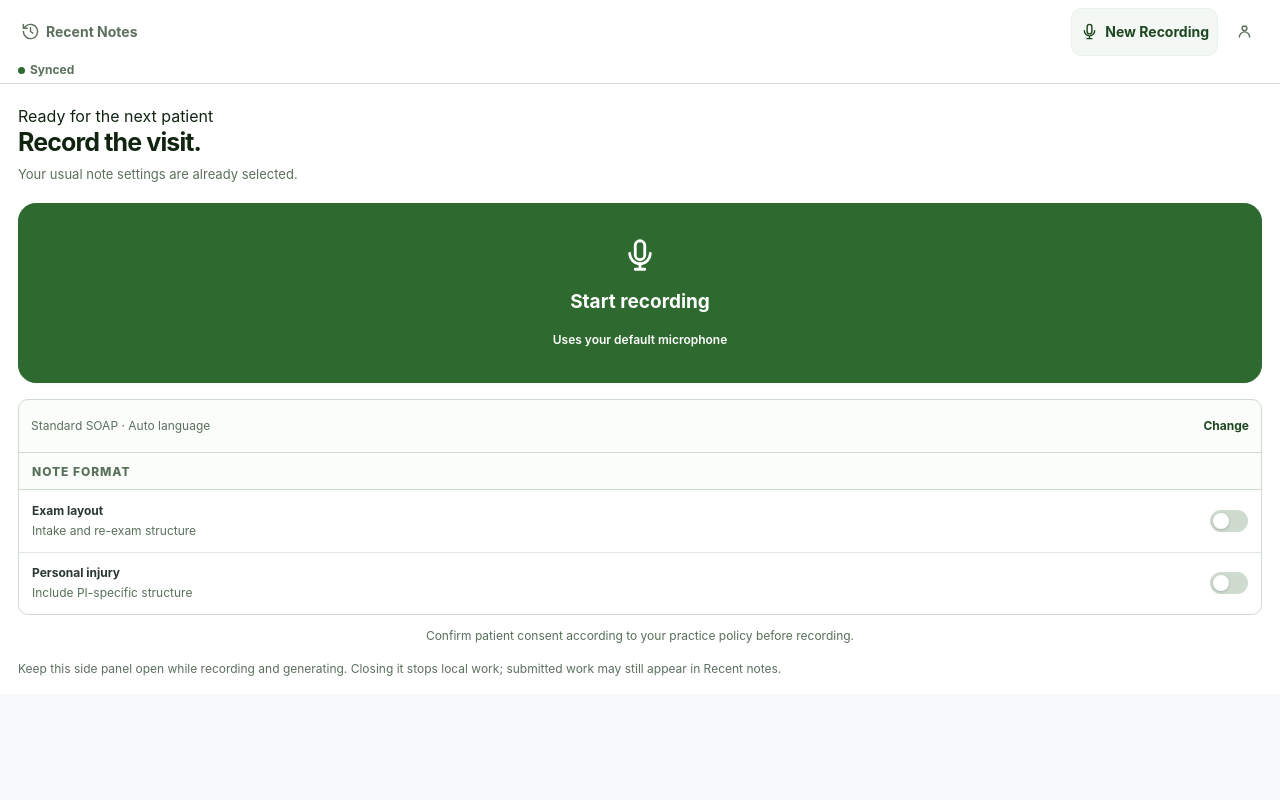
side-panel review and account safety › shows the Cognito email in the account menu
Click the button named "Account menu" at {"x": 1244, "y": 32}, box [1220,8,1268,56]
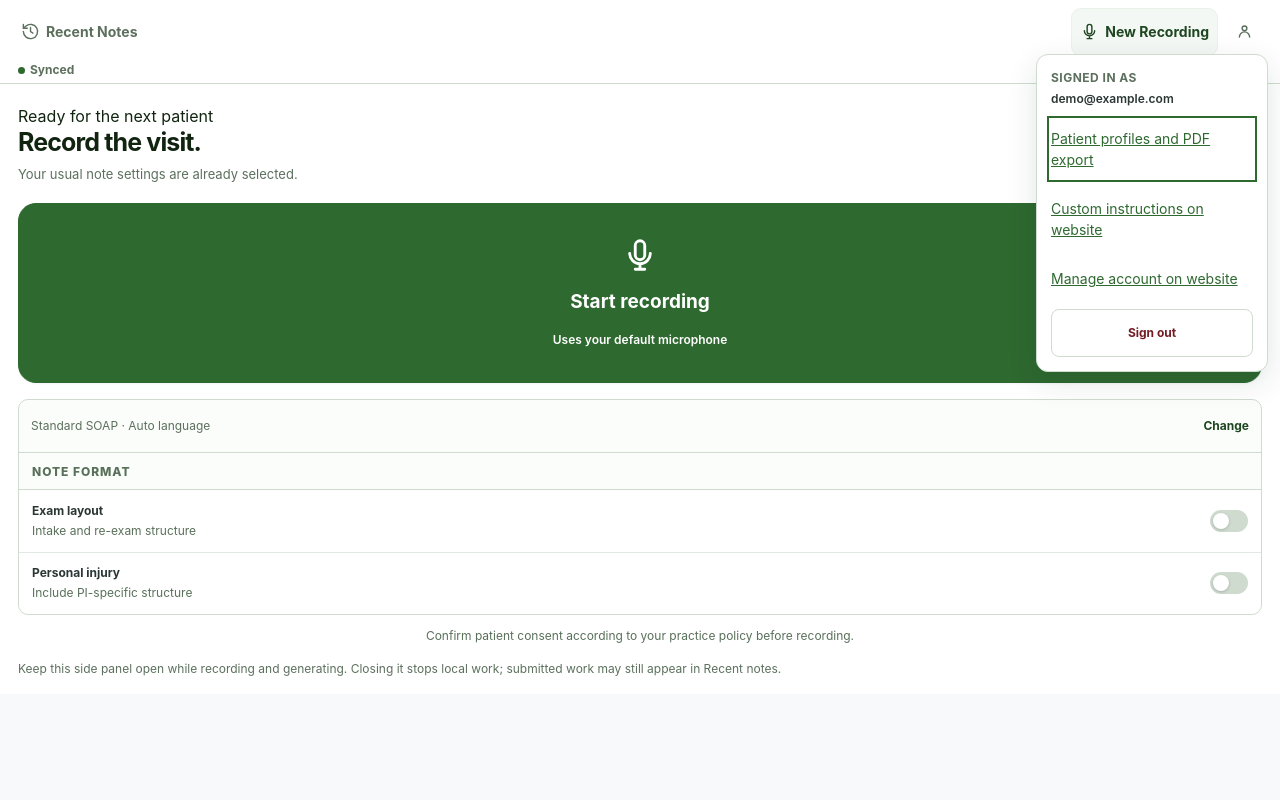
Result: the text "demo@example.com" is shown at [1051,90,1174,106]
